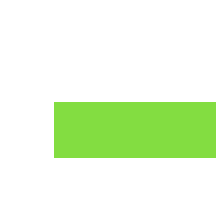rectangle: (54, 102, 215, 157)
